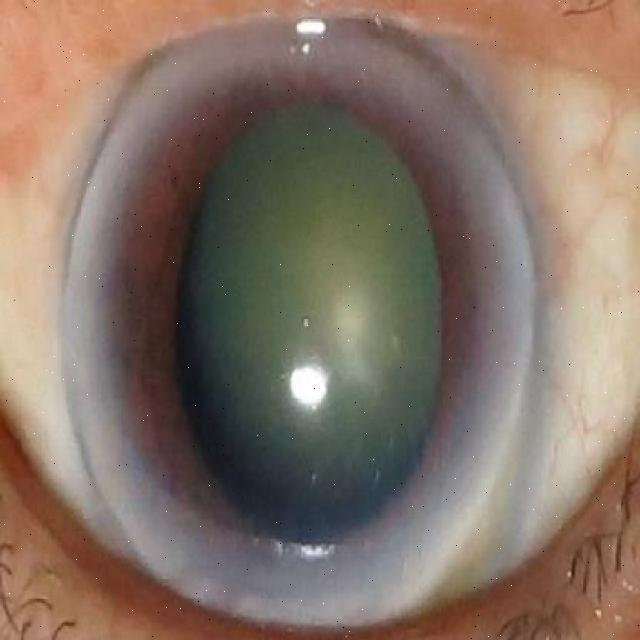Cataract: (60, 14, 545, 626)
